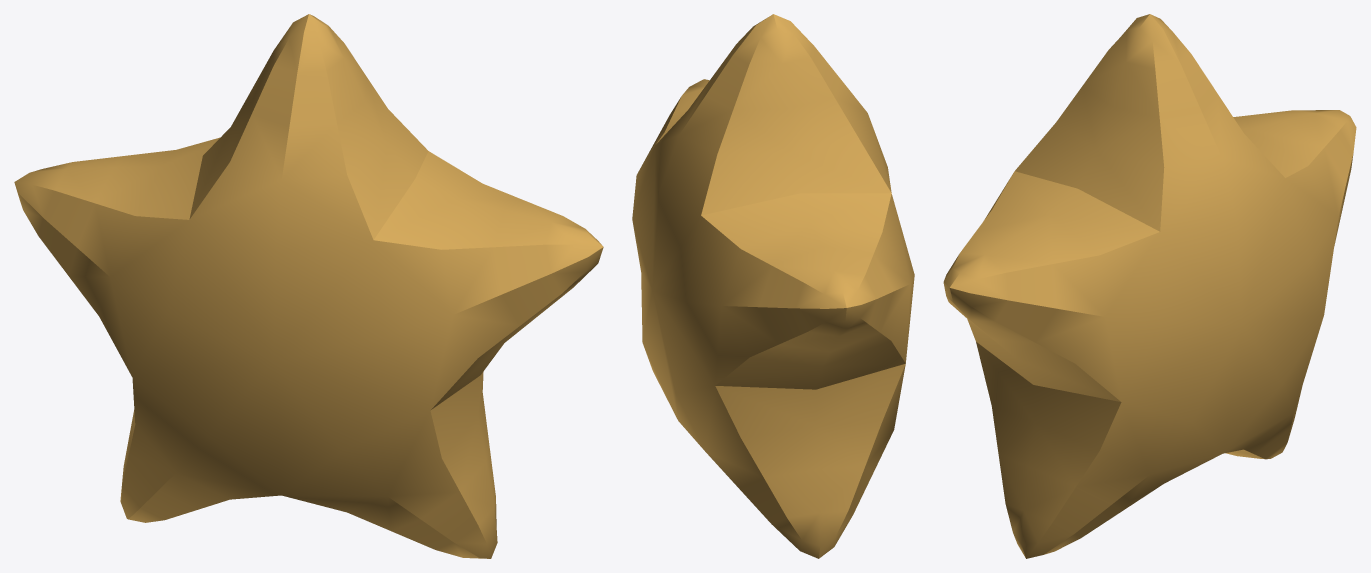
The model's file is Star.001.fbx.
3 renders of one model, left to right at view 1: azimuth 30°, elevation 25°; view 2: azimuth 150°, elevation 25°; view 3: azimuth 270°, elevation 25°, orthographic. The views are drawn at different scales.
Parts seen in each view (by area): view 1: Star.001; view 2: Star.001; view 3: Star.001.
Part boxes in pixels (box(x1,y1,x2,y2)): Star.001: box(14, 14, 603, 558); Star.001: box(632, 14, 914, 558); Star.001: box(943, 14, 1356, 558).
Size of the model in its own units: 111 by 144 by 109.
